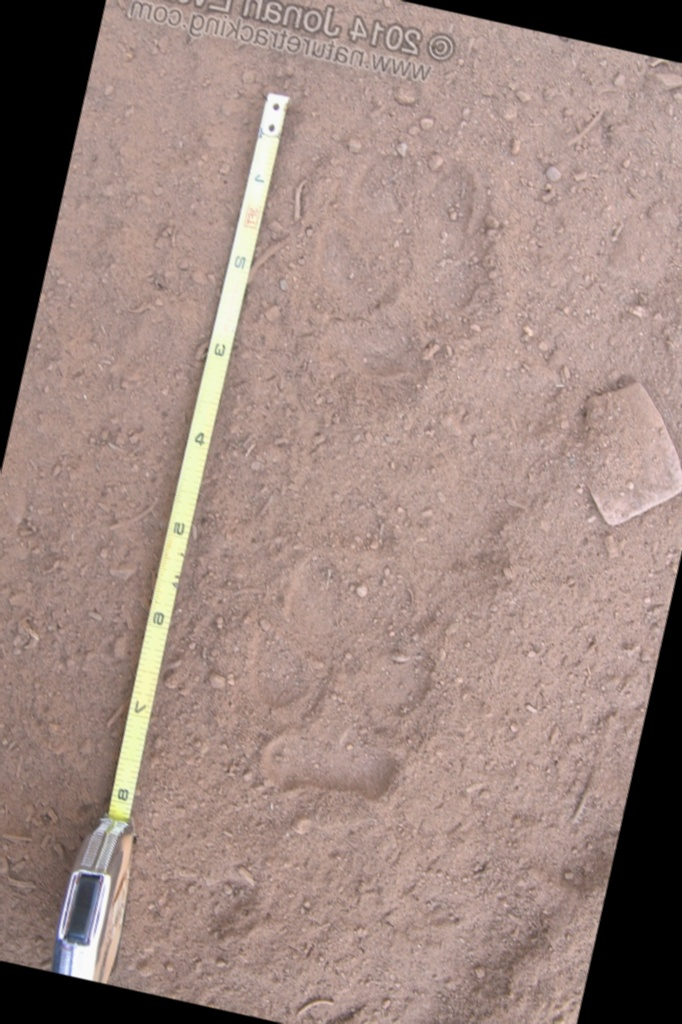coyote: (214, 539, 465, 838), (281, 128, 525, 413)
